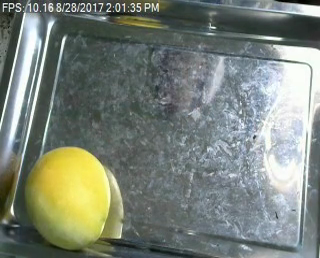Mango: (20, 146, 111, 249)
